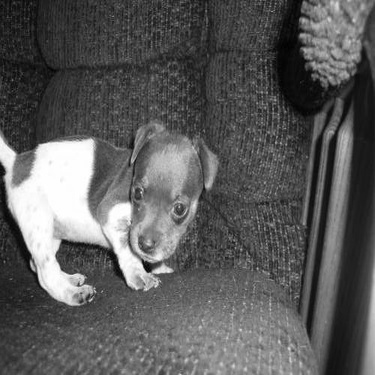dog: (3, 117, 225, 312)
